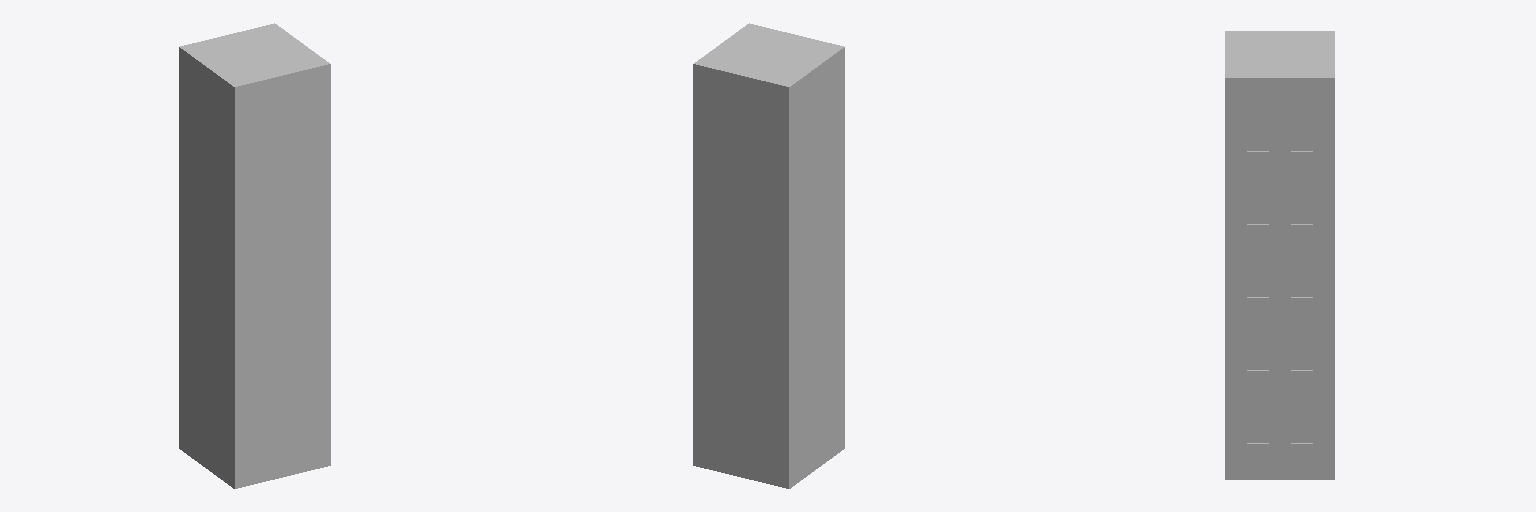
Rendered from Building.obj.
3 views of the same model, side by side, from view 1: azimuth 30°, elevation 25°; view 2: azimuth 150°, elevation 25°; view 3: azimuth 270°, elevation 25° (orthographic).
Parts seen in each view (by area): view 1: Cube_Cube.001; view 2: Cube_Cube.001; view 3: Cube_Cube.001.
Boxes of the visible parts, x1,y1,x2,y2 form: Cube_Cube.001: [179, 23, 330, 488]; Cube_Cube.001: [693, 23, 844, 488]; Cube_Cube.001: [1225, 31, 1334, 479].
Bounding box in the file's own units: 10.25 × 40 × 10.